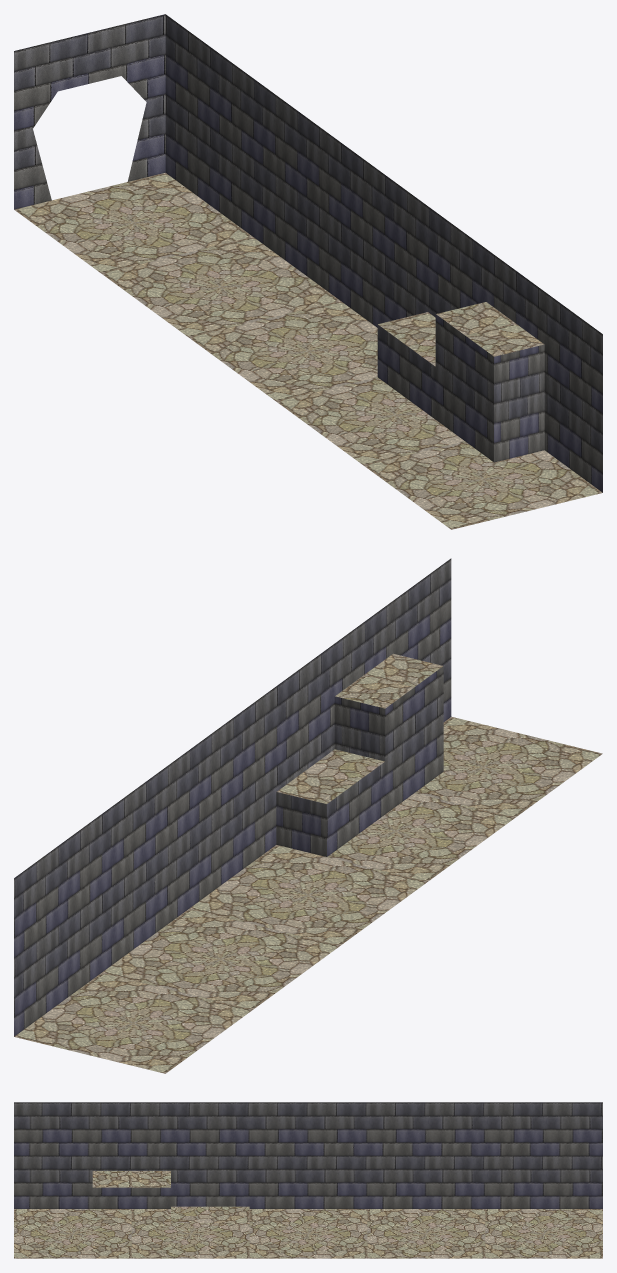
3 renders of one model, top to bottom at view 1: azimuth 30°, elevation 25°; view 2: azimuth 150°, elevation 25°; view 3: azimuth 270°, elevation 25°, orthographic. The views are drawn at different scales.
Visible parts, largest first — view 1: scene_0_wall_mesh, scene_0_floor_mesh; view 2: scene_0_wall_mesh, scene_0_floor_mesh; view 3: scene_0_wall_mesh, scene_0_floor_mesh.
Part boxes in pixels (x1=…): scene_0_wall_mesh: x1=14, y1=14, x2=602, y2=492; scene_0_floor_mesh: x1=14, y1=172, x2=602, y2=529; scene_0_wall_mesh: x1=14, y1=558, x2=451, y2=1036; scene_0_floor_mesh: x1=14, y1=653, x2=602, y2=1073; scene_0_wall_mesh: x1=14, y1=1102, x2=602, y2=1208; scene_0_floor_mesh: x1=14, y1=1171, x2=602, y2=1258.
Size of the model in its own units: 6 by 6 by 30.
2 materials, 2 textured.
